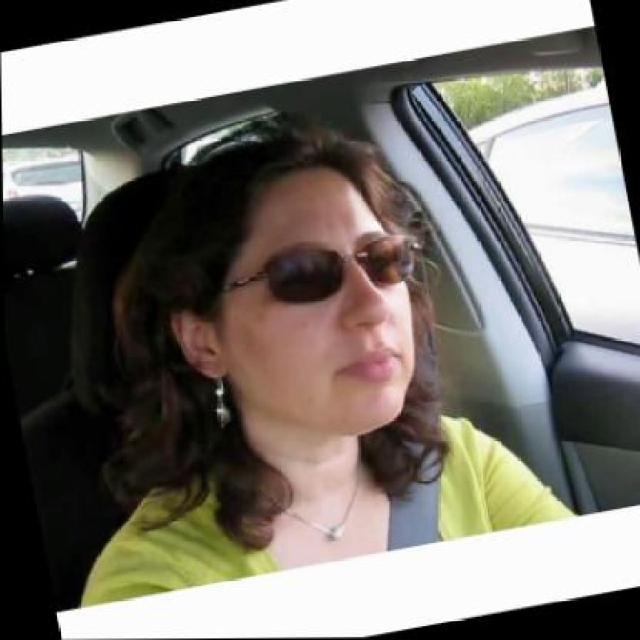attentif: (136, 106, 452, 463)
